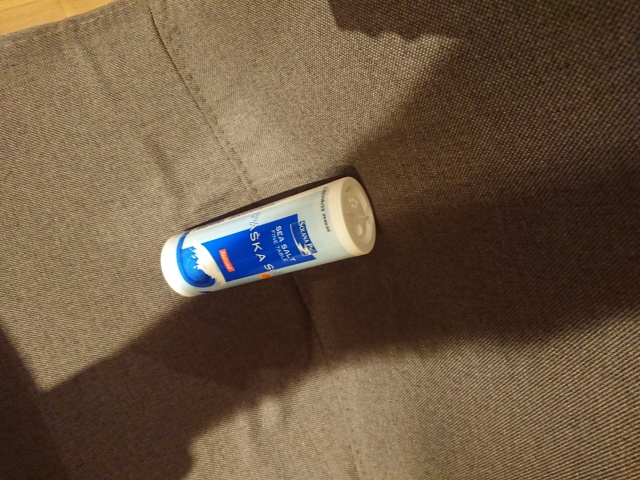Solana Pag Fine Sea Salt 250g: (156, 173, 379, 300)
